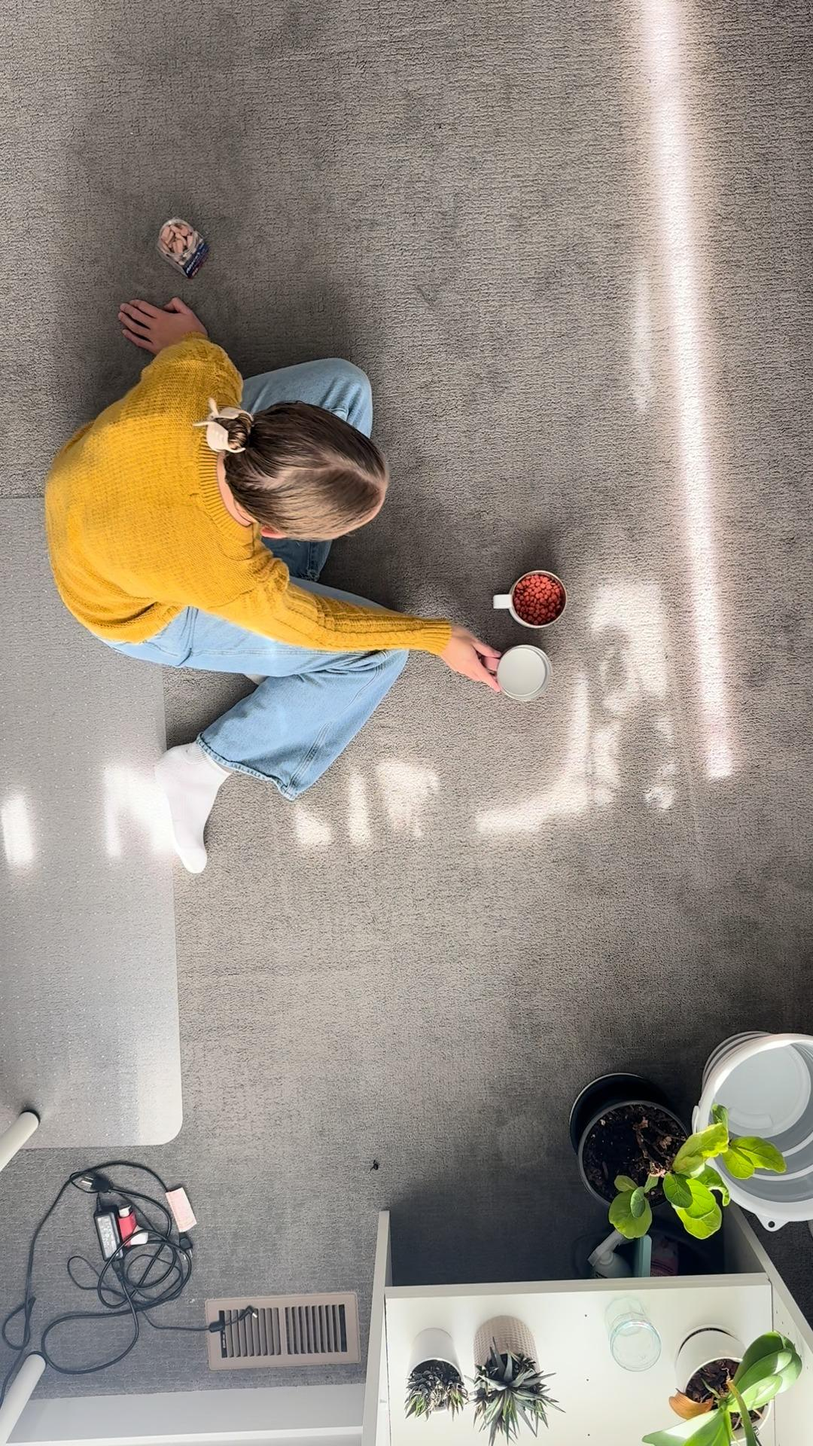IBC: (492, 550, 575, 633), (489, 645, 565, 705)
